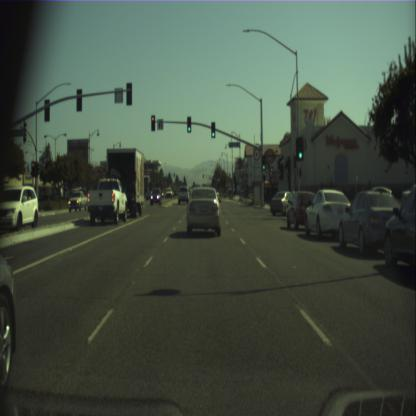Green: (298, 137, 302, 159), (187, 116, 191, 132), (211, 122, 214, 137), (262, 156, 265, 170)
RedLeft: (151, 115, 155, 130), (31, 162, 34, 175)
